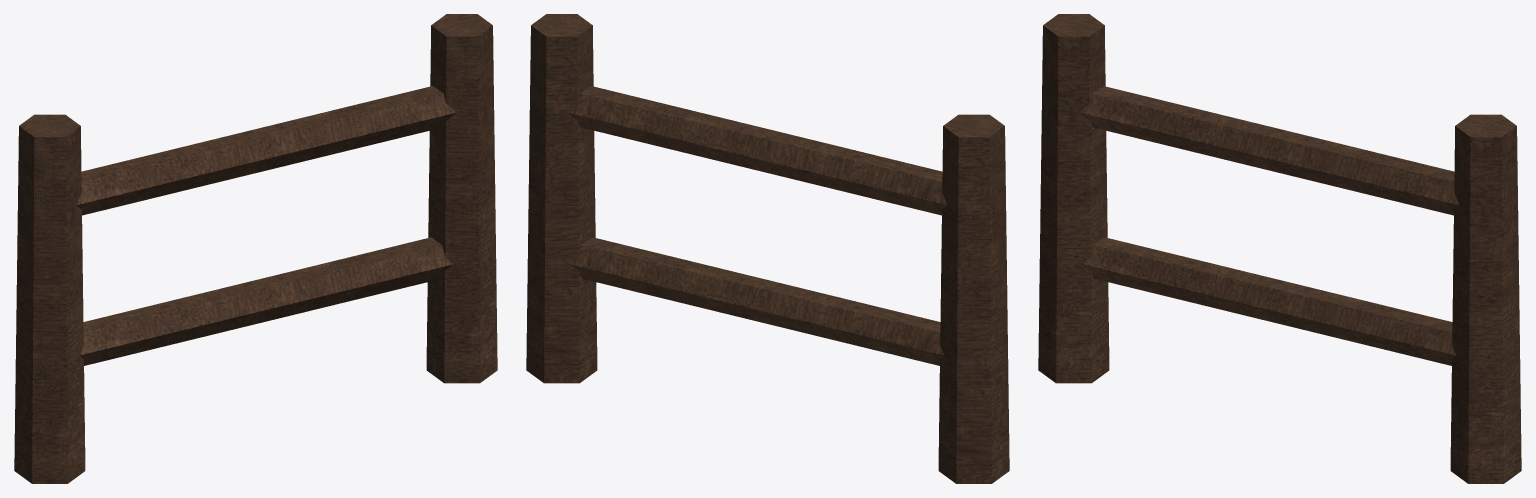
3 views of the same model, side by side, from view 1: azimuth 30°, elevation 25°; view 2: azimuth 150°, elevation 25°; view 3: azimuth 330°, elevation 25° (orthographic).
Visible parts, largest first — view 1: Fence_Post_L; view 2: Fence_Post_L; view 3: Fence_Post_L.
Part boxes in pixels (x1,y1,x2,y2): Fence_Post_L: (14, 14, 497, 483); Fence_Post_L: (526, 14, 1009, 483); Fence_Post_L: (1038, 14, 1521, 483).
Size of the model in its own units: 2.26 by 1.6 by 0.299.
1 material, 1 textured.
